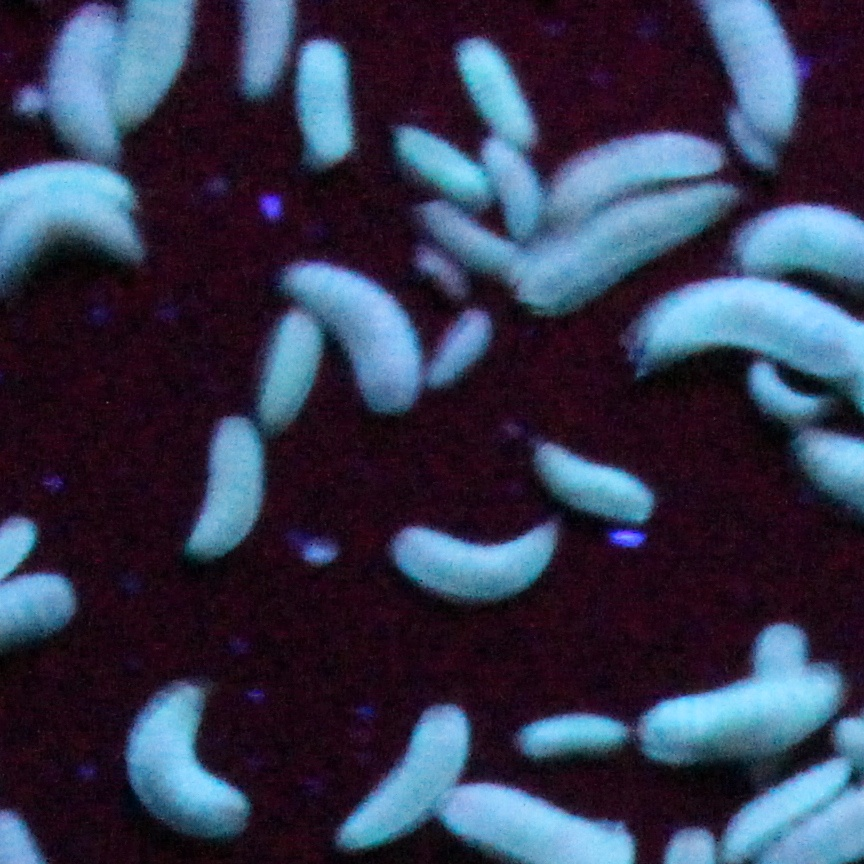larve: (110, 672, 262, 856), (272, 248, 432, 422), (321, 688, 469, 859), (625, 670, 851, 765), (378, 508, 572, 610), (539, 120, 730, 222), (175, 413, 269, 570), (523, 430, 683, 522), (446, 30, 545, 152), (40, 13, 121, 154), (289, 33, 366, 179), (248, 300, 326, 435), (394, 119, 492, 208), (407, 200, 514, 274), (512, 708, 643, 762), (420, 301, 493, 388), (479, 141, 543, 232)
